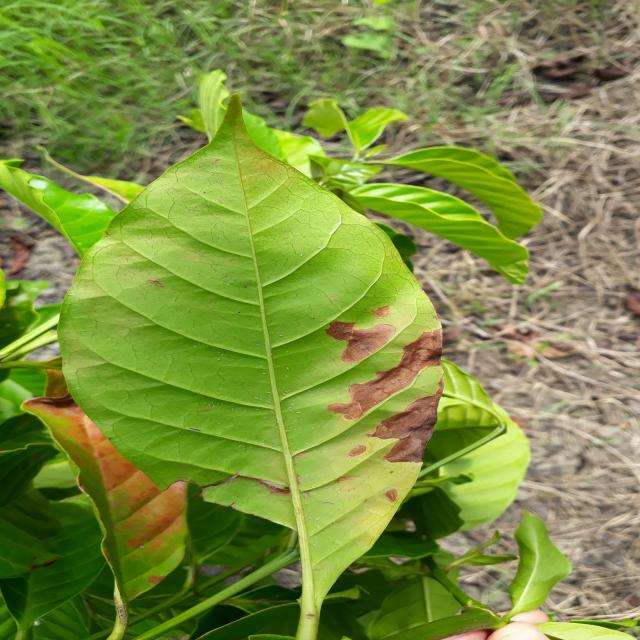Plaga-AranaRoja: (59, 94, 447, 640)
